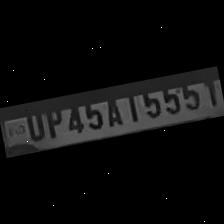4: (61, 103, 84, 136)
5: (177, 80, 204, 114), (138, 87, 164, 122), (81, 98, 106, 132), (158, 83, 182, 118)
A: (100, 95, 126, 129)
P: (40, 107, 66, 140)
T: (119, 90, 142, 126)
U: (20, 111, 46, 142)
